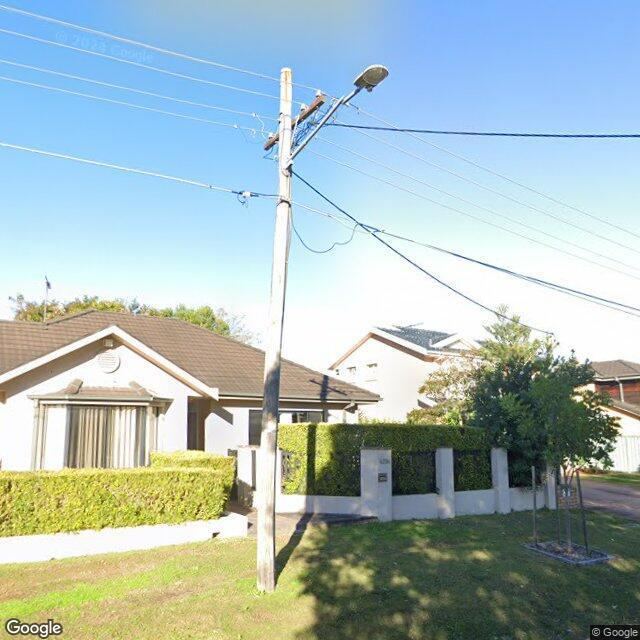crossarm: (261, 94, 326, 150)
streetlight: (285, 62, 389, 170)
timber-pole: (258, 65, 292, 592)
